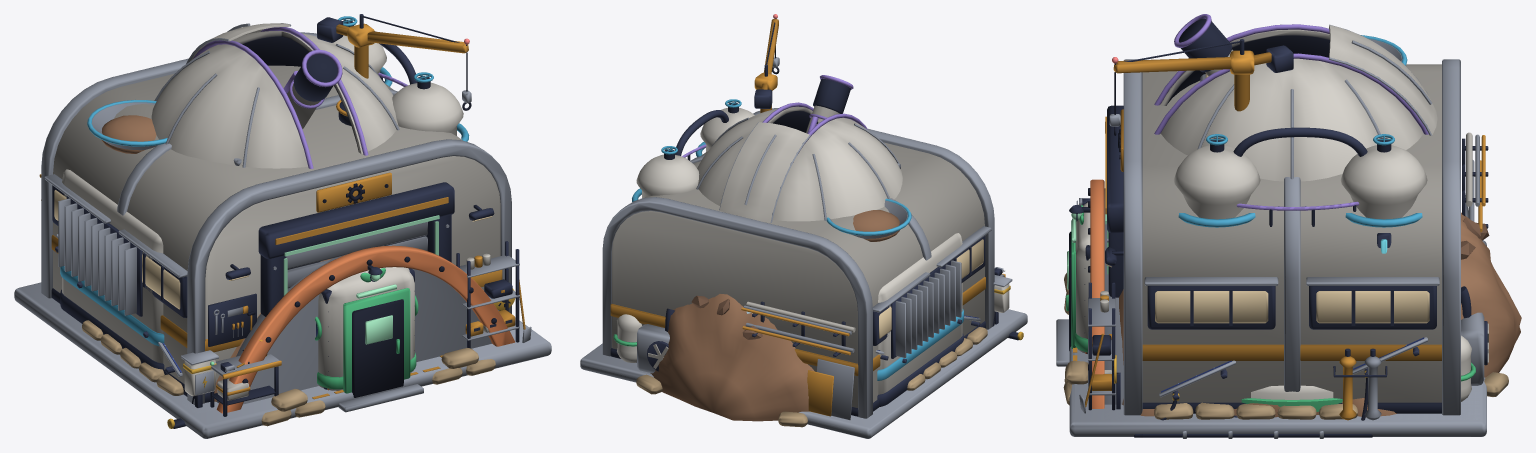
Rendered from annex.glb.
3 renders of one model, left to right at view 1: azimuth 30°, elevation 25°; view 2: azimuth 150°, elevation 25°; view 3: azimuth 270°, elevation 25°, orthographic. The views are drawn at different scales.
Parts seen in each view (by area): view 1: workshop, observatory_dome, oxygen, bunker, garden, solar_array; view 2: workshop, observatory_dome, bunker, oxygen, solar_array, garden; view 3: workshop, observatory_dome, oxygen, bunker, garden, solar_array, observatory.
Part boxes in pixels (bbox=[...]): workshop: bbox=[14, 14, 551, 438]; observatory_dome: bbox=[151, 23, 399, 168]; oxygen: bbox=[24, 16, 523, 413]; bunker: bbox=[82, 245, 514, 426]; garden: bbox=[138, 267, 423, 412]; solar_array: bbox=[55, 234, 515, 428]; workshop: bbox=[580, 14, 1027, 438]; observatory_dome: bbox=[696, 75, 902, 222]; bunker: bbox=[636, 294, 987, 427]; oxygen: bbox=[585, 99, 963, 434]; solar_array: bbox=[875, 275, 1023, 363]; garden: bbox=[613, 311, 752, 362]; workshop: bbox=[1069, 39, 1488, 436]; observatory_dome: bbox=[1154, 14, 1437, 181]; oxygen: bbox=[1104, 35, 1480, 419]; bunker: bbox=[1063, 179, 1521, 419]; garden: bbox=[1056, 202, 1475, 417]; solar_array: bbox=[1113, 337, 1427, 438]; observatory: bbox=[1236, 201, 1359, 226].
Bounding box in the file's own units: 8.22 × 6.88 × 8.36.
